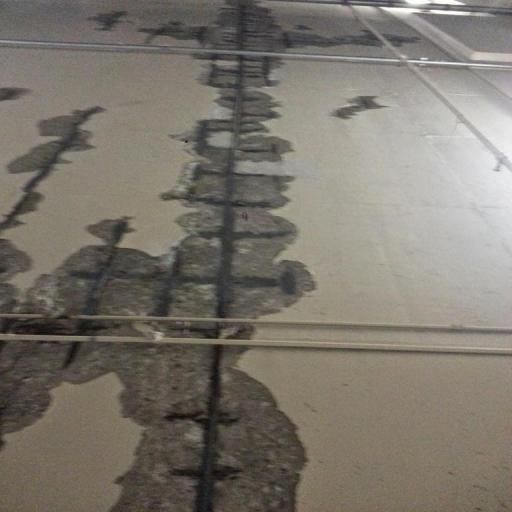spalling: (0, 0, 421, 512)
